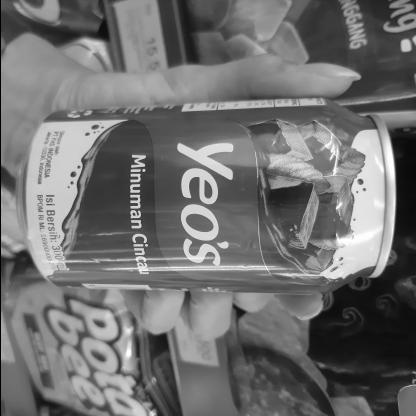alumunium_can: (18, 98, 406, 316)
